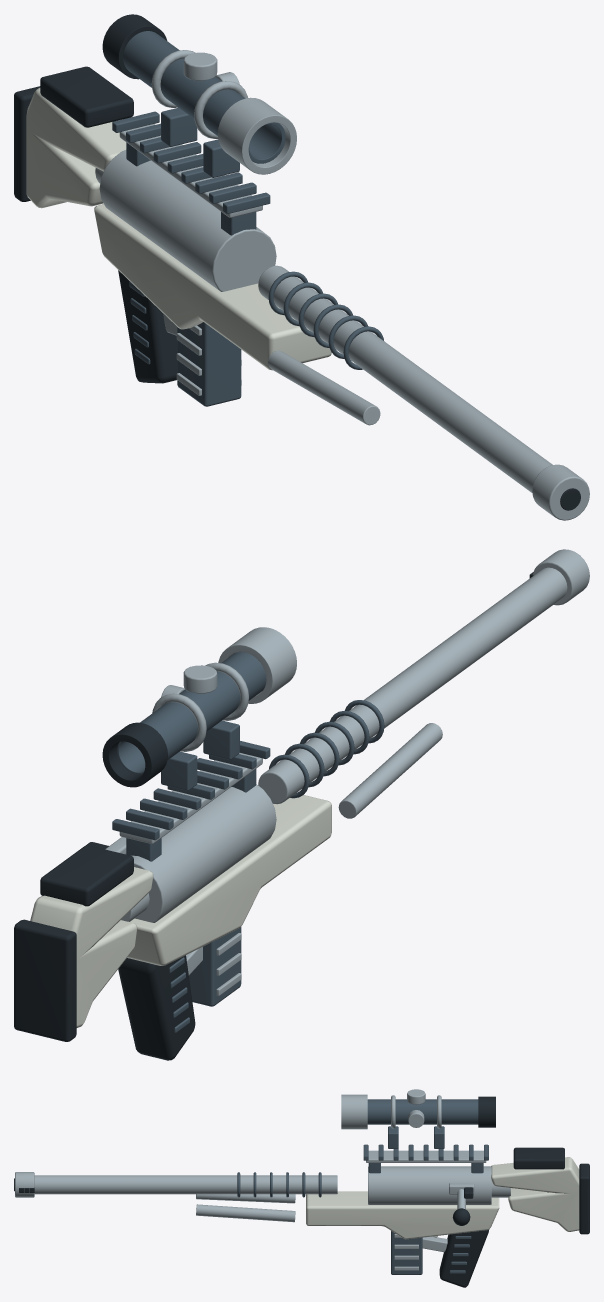
File: weapon_07.glb
3 renders of one model, top to bottom at view 1: azimuth 30°, elevation 25°; view 2: azimuth 150°, elevation 25°; view 3: azimuth 270°, elevation 25°, orthographic. The views are drawn at different scales.
Visible parts, largest first — view 1: receiver / Titanium, receiver / Ceramic, receiver / Cerakote midnight, weapon_07 / Cerakote midnight, weapon_07 / Titanium, receiver / Elastomer, magazine / Cerakote midnight, pistol_grip / Elastomer, weapon_07 / Elastomer, magazine / Titanium; view 2: receiver / Titanium, receiver / Ceramic, receiver / Elastomer, receiver / Cerakote midnight, weapon_07 / Cerakote midnight, pistol_grip / Elastomer, weapon_07 / Titanium, weapon_07 / Elastomer, magazine / Cerakote midnight, magazine / Titanium; view 3: receiver / Titanium, receiver / Ceramic, weapon_07 / Cerakote midnight, receiver / Elastomer, weapon_07 / Titanium, pistol_grip / Elastomer, receiver / Cerakote midnight, magazine / Cerakote midnight, weapon_07 / Elastomer, magazine / Titanium, charging_handle / Elastomer, charging_handle / Titanium (+1 smaller).
Part boxes in pixels (left/top/right/bottom): receiver / Titanium: left=95, top=124, right=589, bottom=520; receiver / Ceramic: left=26, top=88, right=331, bottom=370; receiver / Cerakote midnight: left=112, top=111, right=383, bottom=369; weapon_07 / Cerakote midnight: left=123, top=31, right=285, bottom=177; weapon_07 / Titanium: left=151, top=50, right=296, bottom=174; receiver / Elastomer: left=14, top=66, right=580, bottom=510; magazine / Cerakote midnight: left=177, top=322, right=241, bottom=406; pistol_grip / Elastomer: left=118, top=270, right=177, bottom=383; weapon_07 / Elastomer: left=102, top=14, right=167, bottom=79; magazine / Titanium: left=176, top=325, right=241, bottom=395; receiver / Titanium: left=119, top=549, right=589, bottom=975; receiver / Ceramic: left=30, top=795, right=331, bottom=1027; receiver / Elastomer: left=14, top=572, right=533, bottom=1041; receiver / Cerakote midnight: left=112, top=700, right=384, bottom=861; weapon_07 / Cerakote midnight: left=117, top=652, right=266, bottom=790; pistol_grip / Elastomer: left=118, top=955, right=195, bottom=1060; weapon_07 / Titanium: left=152, top=627, right=296, bottom=751; weapon_07 / Elastomer: left=102, top=722, right=167, bottom=787; magazine / Cerakote midnight: left=189, top=926, right=241, bottom=1006; magazine / Titanium: left=216, top=933, right=241, bottom=995; receiver / Titanium: left=15, top=1150, right=510, bottom=1252; receiver / Ceramic: left=306, top=1157, right=579, bottom=1239; weapon_07 / Cerakote midnight: left=367, top=1099, right=478, bottom=1148; receiver / Elastomer: left=14, top=1147, right=589, bottom=1234; weapon_07 / Titanium: left=341, top=1089, right=441, bottom=1129; pistol_grip / Elastomer: left=439, top=1230, right=488, bottom=1287; receiver / Cerakote midnight: left=237, top=1144, right=488, bottom=1197; magazine / Cerakote midnight: left=391, top=1231, right=422, bottom=1274; weapon_07 / Elastomer: left=478, top=1096, right=495, bottom=1127; magazine / Titanium: left=394, top=1234, right=418, bottom=1270; charging_handle / Elastomer: left=452, top=1187, right=473, bottom=1225; charging_handle / Titanium: left=449, top=1183, right=474, bottom=1209.
Bounding box in the file's own units: 0.2389 × 0.5961 × 1.63.
